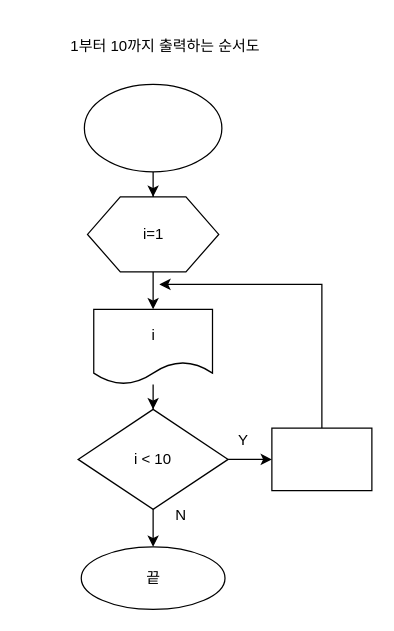
Some shapes in this 394 by 631 pixel diagram are drawn without their labels. The shapes that lost their labels are listed below. From the top down, each one's box as (x1, y1, x2, y2) in pixels, then its label:
(83, 83, 222, 172): 시작
(271, 427, 372, 491): i = i + 1
